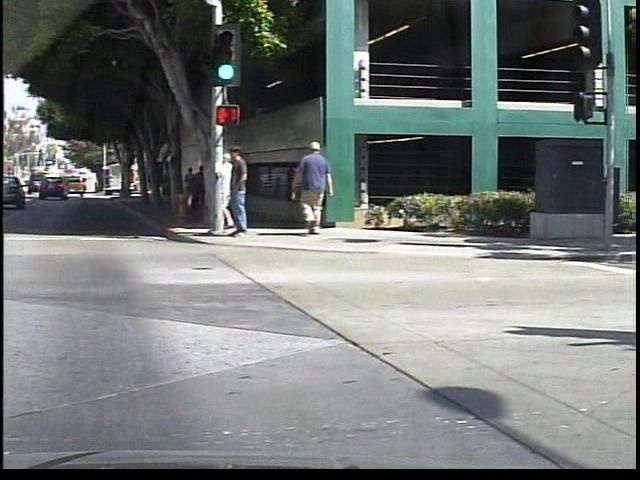person: (292, 142, 345, 240), (224, 138, 263, 244), (213, 149, 242, 235), (194, 164, 210, 221)
